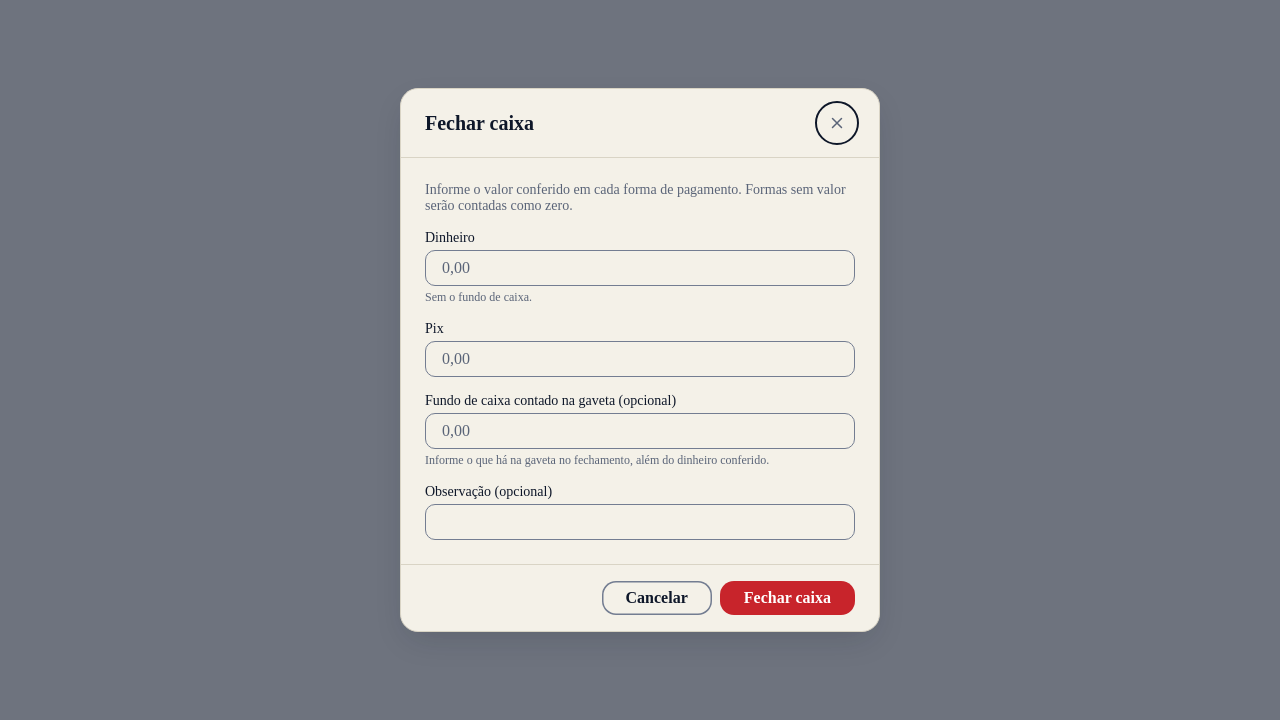
Test: FecharCaixaModal › fecha com conferências, fundo contado e observação
Type "290" into the field labelled "Dinheiro" at (640, 268), box [425,250,855,286]
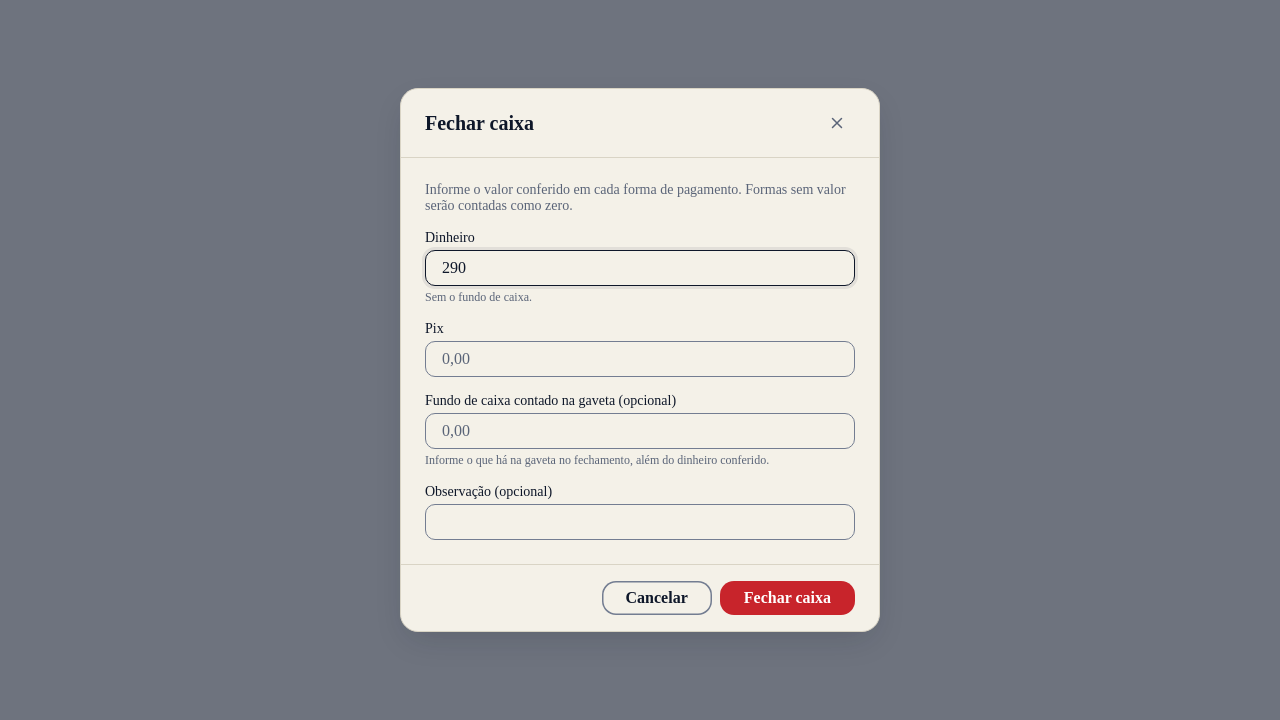
Type "100" into the field labelled "Pix" at (640, 359), box [425,341,855,377]
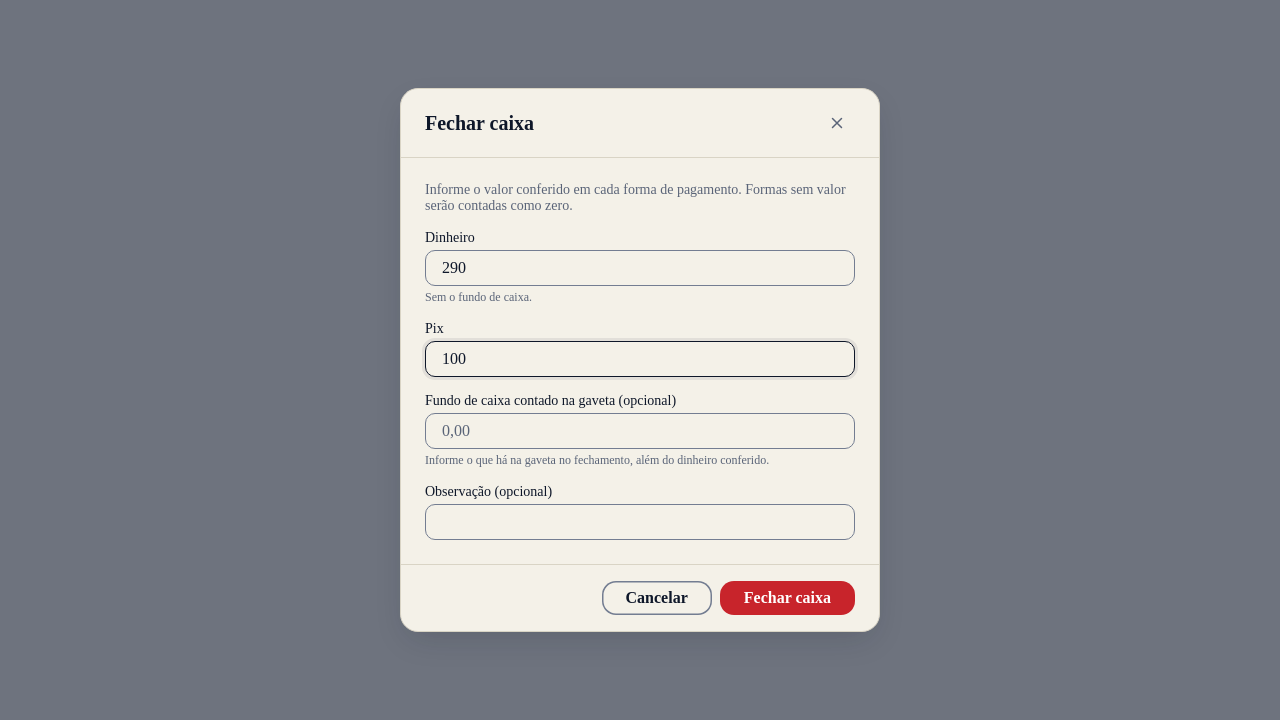
Type "100" into the field labelled "Fundo de caixa contado na gaveta (opcional)" at (640, 431), box [425,413,855,449]
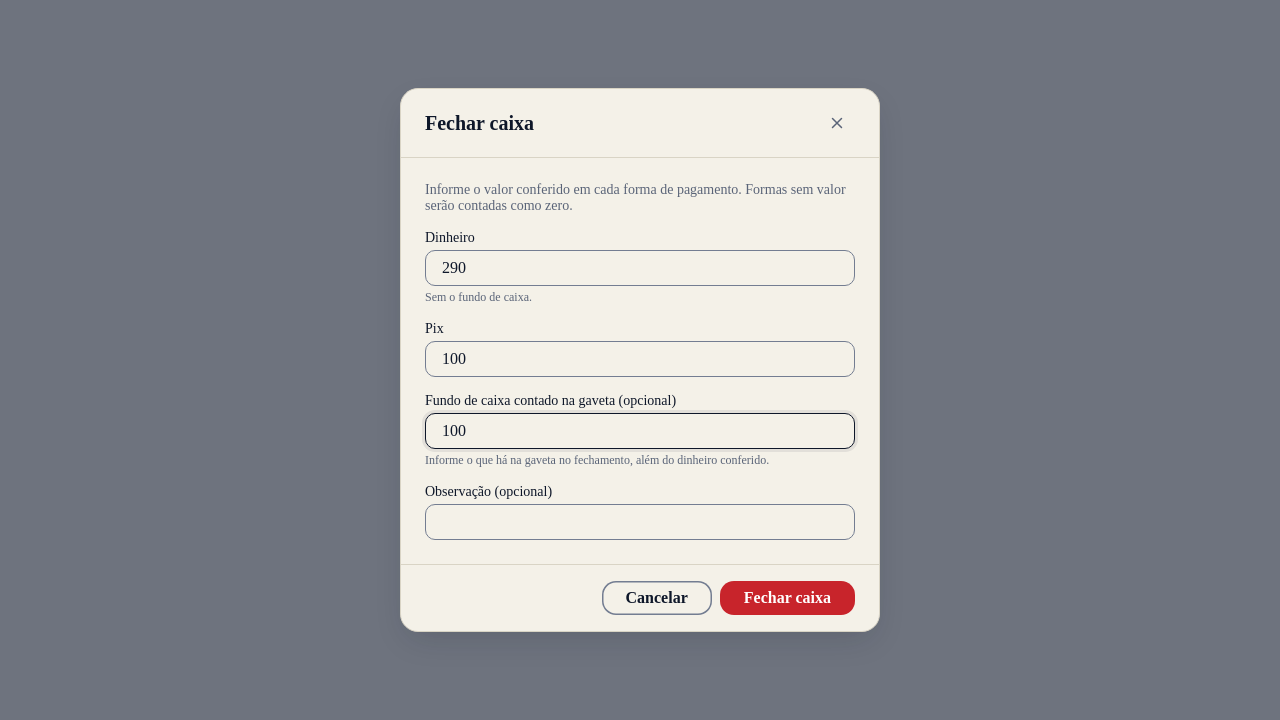
Type "fim do dia" into the field labelled "Observação (opcional)" at (640, 522), box [425,504,855,540]
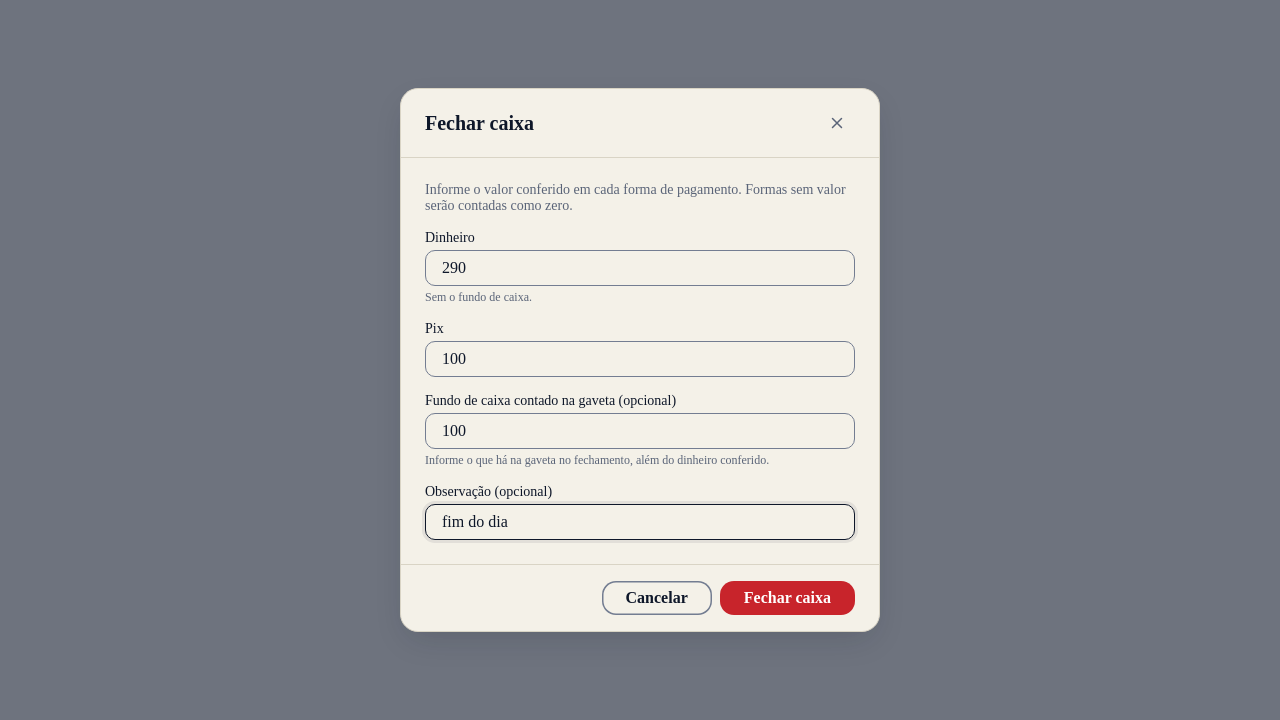
Click the button "Fechar caixa" at (787, 598), box [720,581,855,615]
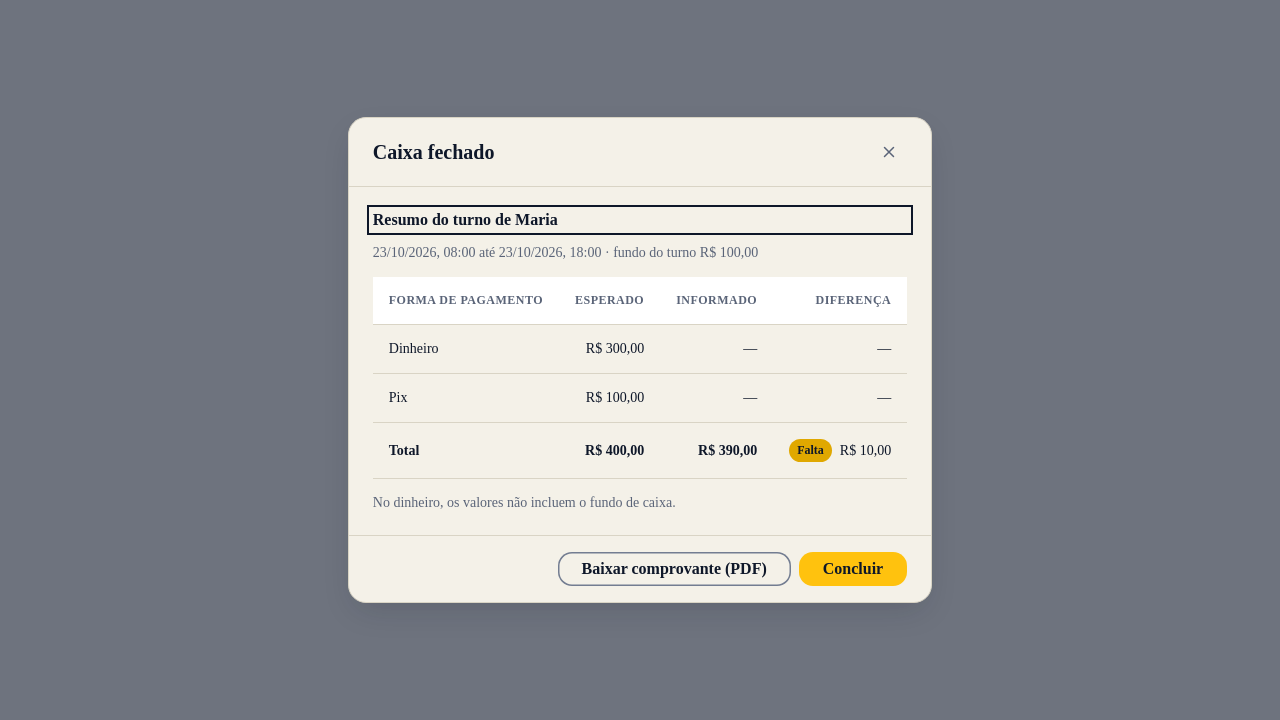
Expected: the heading "Caixa fechado" is shown, [373,140,494,164]
